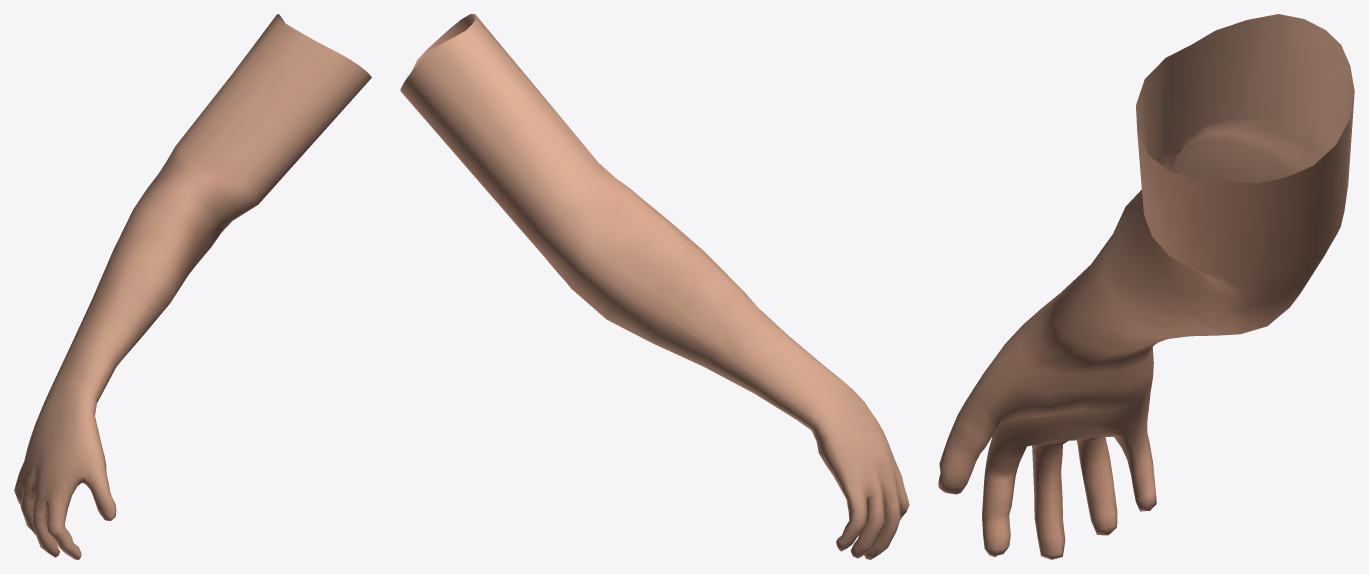
The model's file is Hand.obj.
The picture shows the model from 3 angles, left to right: view 1: azimuth 30°, elevation 25°; view 2: azimuth 150°, elevation 25°; view 3: azimuth 270°, elevation 25°; orthographic projection. The views are drawn at different scales.
Parts seen in each view (by area): view 1: BasicBandit_Body; view 2: BasicBandit_Body; view 3: BasicBandit_Body.
Boxes of the visible parts, box(x1,y1,x2,y2) form: BasicBandit_Body: box(14, 14, 371, 559); BasicBandit_Body: box(400, 14, 909, 559); BasicBandit_Body: box(938, 14, 1354, 559).
Size of the model in its own units: 51.88 by 56.4 by 26.18.
